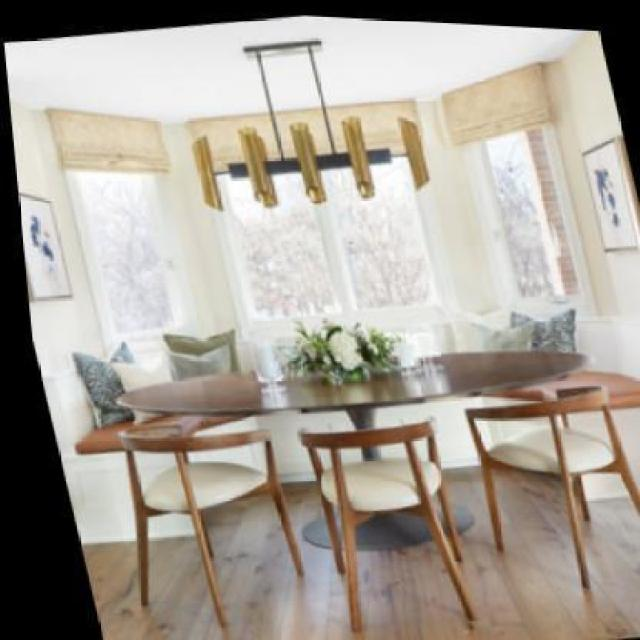tables: (114, 348, 588, 557)
